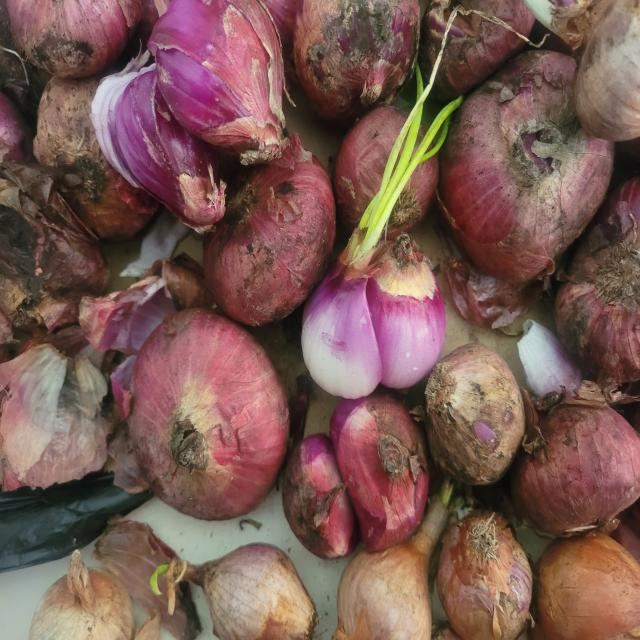mechanical_damage: (89, 4, 300, 229), (301, 237, 443, 411), (283, 389, 427, 559)
